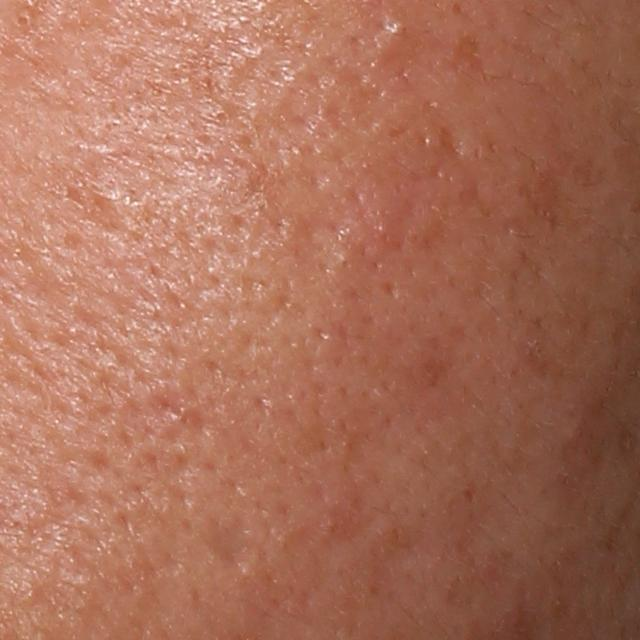atrophic_scar: (60, 180, 139, 241), (201, 513, 254, 573), (437, 126, 465, 159)
comedo: (379, 18, 407, 51), (14, 12, 32, 31)
